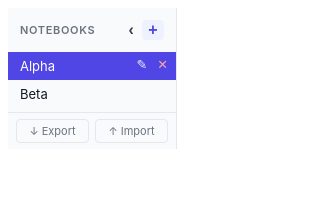
NotebookList delete › dismisses confirmation on Cancel
The image size is (320, 218).
Click the button named "Delete \"Alpha\"" at (163,66), box [153,57,172,75]
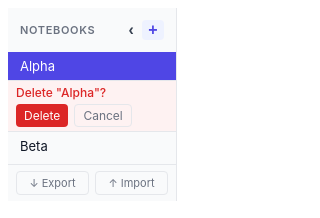
Click the button "Cancel" at (103,116), box [74,104,132,127]
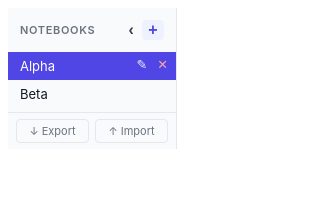
Expected: the text "Delete" is gone
